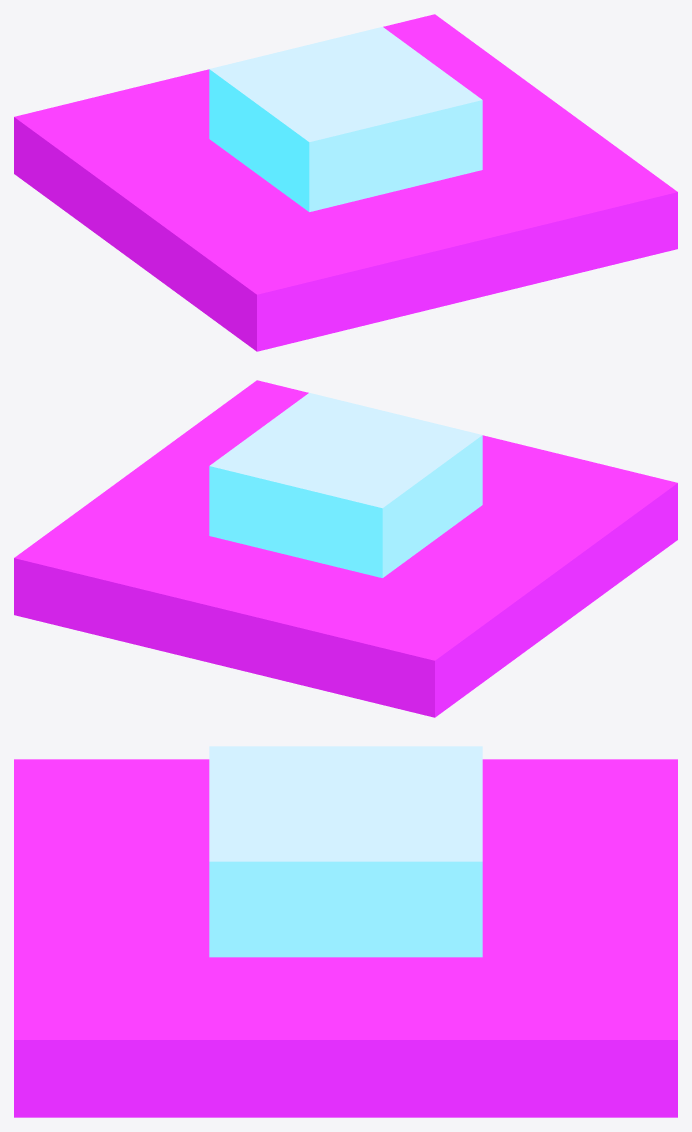
Rendered from turret_gravedad.glb.
3 renders of one model, top to bottom at view 1: azimuth 30°, elevation 25°; view 2: azimuth 150°, elevation 25°; view 3: azimuth 270°, elevation 25°, orthographic. The views are drawn at different scales.
Parts seen in each view (by area): view 1: Base, Weapon; view 2: Base, Weapon; view 3: Base, Weapon.
Boxes of the visible parts, x1,y1,x2,y2 form: Base: (14,14,677,351); Weapon: (209,27,482,211); Base: (14,380,677,717); Weapon: (209,393,482,577); Base: (14,759,677,1117); Weapon: (209,746,482,957).
Size of the model in its own units: 1.7 by 0.49 by 1.7.
